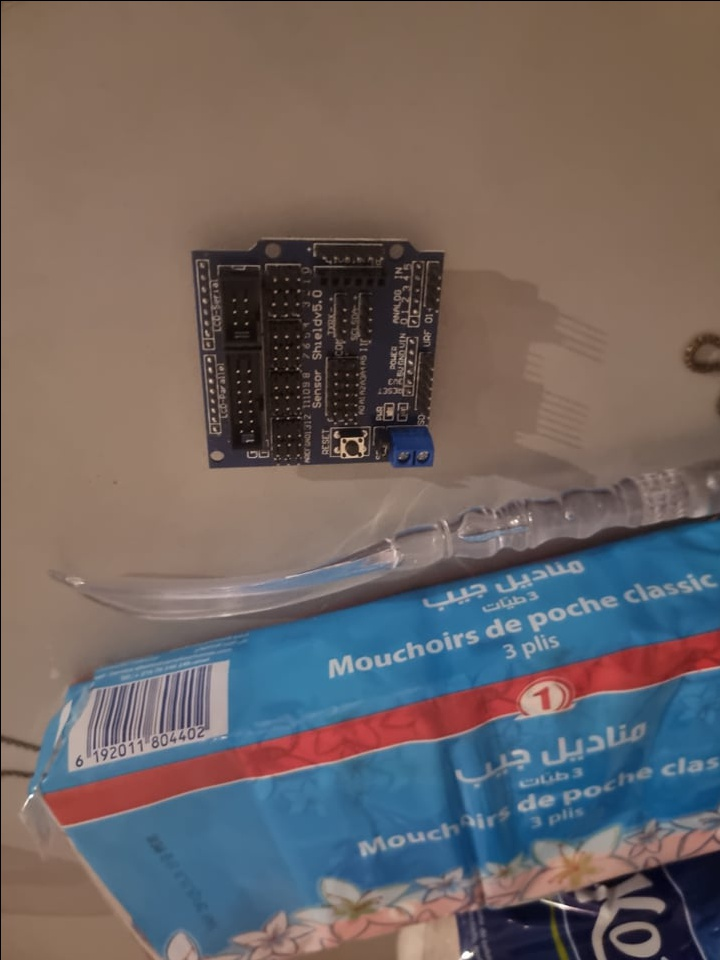5V EXPANSION: (190, 237, 446, 470)
